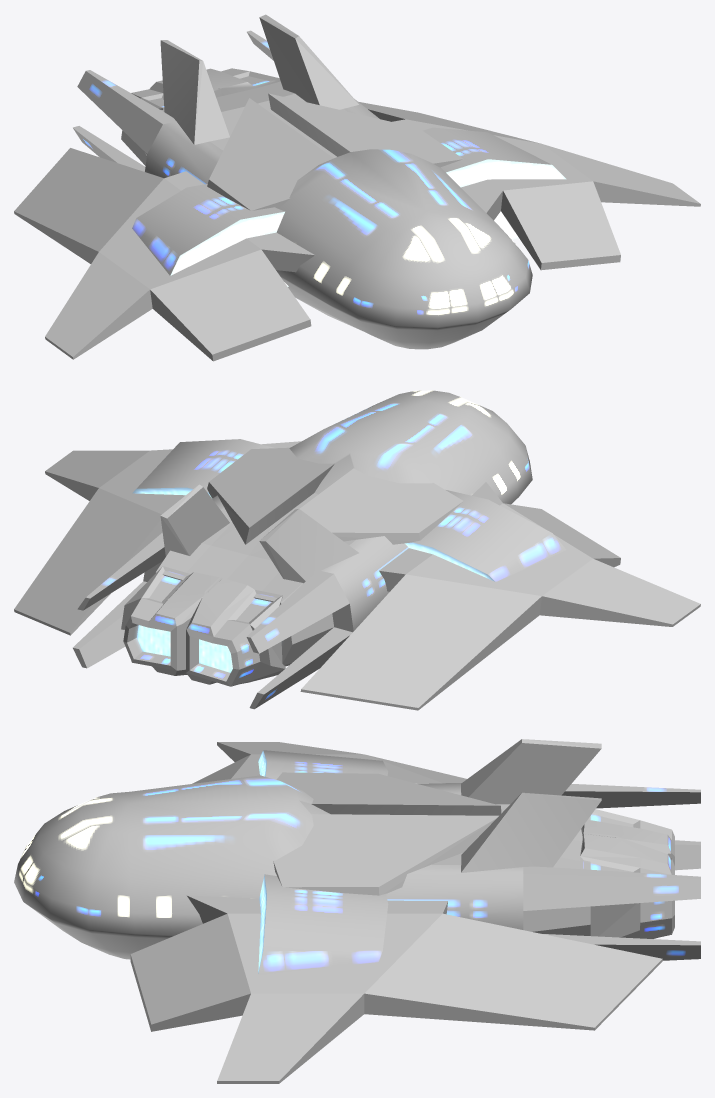
The model's file is astraFighter.FBX.
3 views of the same model, one above another, from view 1: azimuth 30°, elevation 25°; view 2: azimuth 150°, elevation 25°; view 3: azimuth 270°, elevation 25° (orthographic). The views are drawn at different scales.
Visible parts, largest first — view 1: AstraFighter01; view 2: AstraFighter01; view 3: AstraFighter01.
Boxes of the visible parts, left/top/right/bottom form: AstraFighter01: left=14, top=14, right=700, bottom=361; AstraFighter01: left=14, top=390, right=700, bottom=710; AstraFighter01: left=14, top=739, right=700, bottom=1083.
Size of the model in its own units: 0.4791 by 0.4103 by 0.1251.
